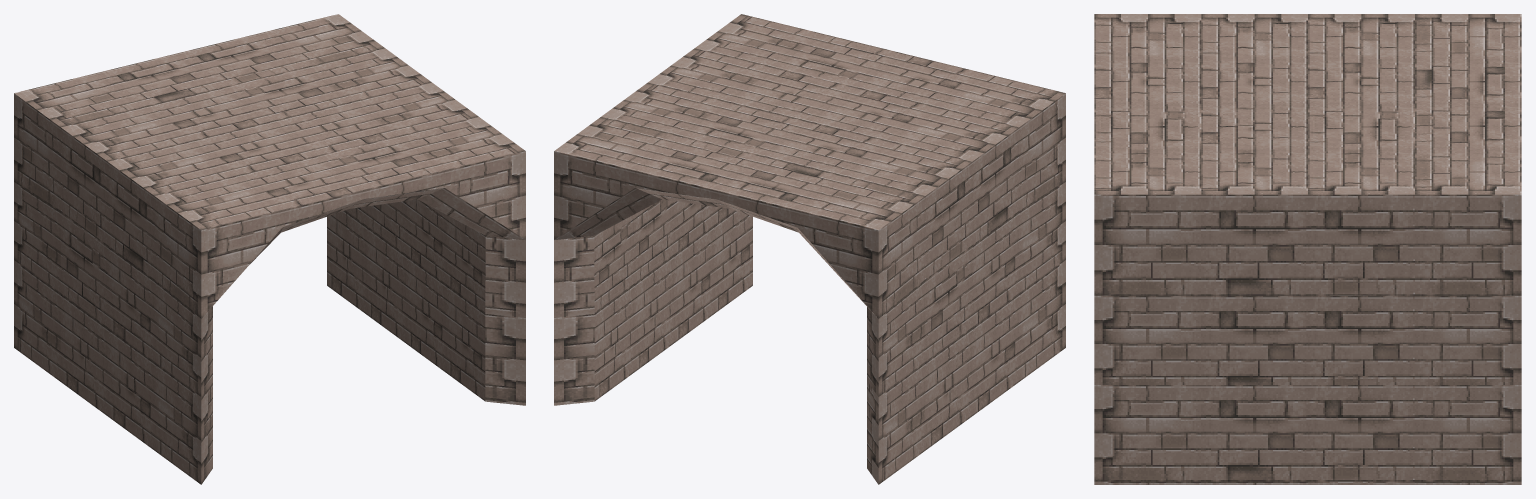
The model's file is stone_archway.glb.
3 renders of one model, left to right at view 1: azimuth 30°, elevation 25°; view 2: azimuth 150°, elevation 25°; view 3: azimuth 270°, elevation 25°, orthographic. The views are drawn at different scales.
Visible parts, largest first — view 1: stone_archway; view 2: stone_archway; view 3: stone_archway.
Part boxes in pixels (x1=…): stone_archway: x1=14, y1=14, x2=525, y2=484; stone_archway: x1=554, y1=14, x2=1065, y2=484; stone_archway: x1=1094, y1=14, x2=1521, y2=484.
Bounding box in the file's own units: 4 × 3 × 4.
Materials: 1 (1 with a texture image).
